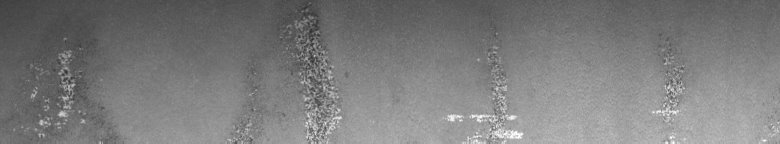hc: (233, 4, 342, 136)
